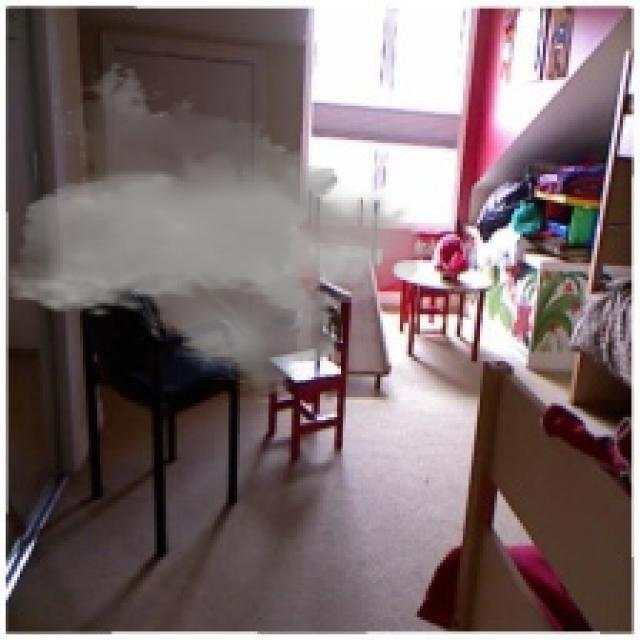Smoke: (3, 60, 426, 406)
